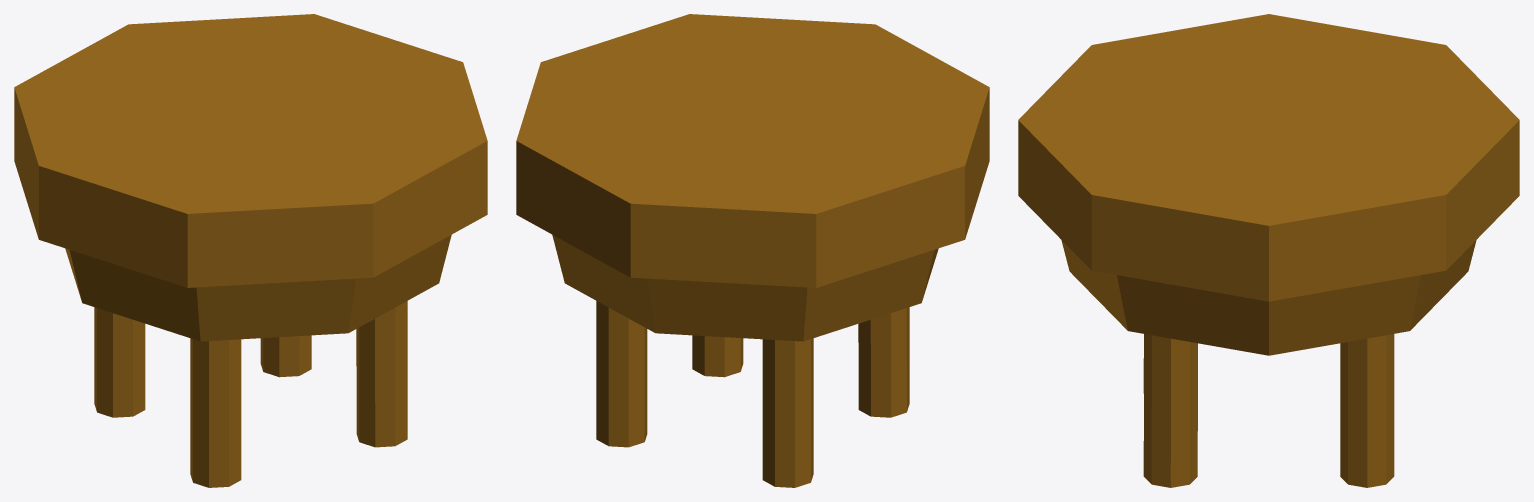
Rendered from bench.fbx.
3 views of the same model, side by side, from view 1: azimuth 30°, elevation 25°; view 2: azimuth 150°, elevation 25°; view 3: azimuth 270°, elevation 25° (orthographic). The views are drawn at different scales.
Visible parts, largest first — view 1: bench; view 2: bench; view 3: bench.
Part boxes in pixels (x1,y1,x2,y2): bench: (14, 14, 487, 487); bench: (516, 14, 989, 487); bench: (1018, 14, 1519, 487).
Bounding box in the file's own units: 163 × 113 × 163.
